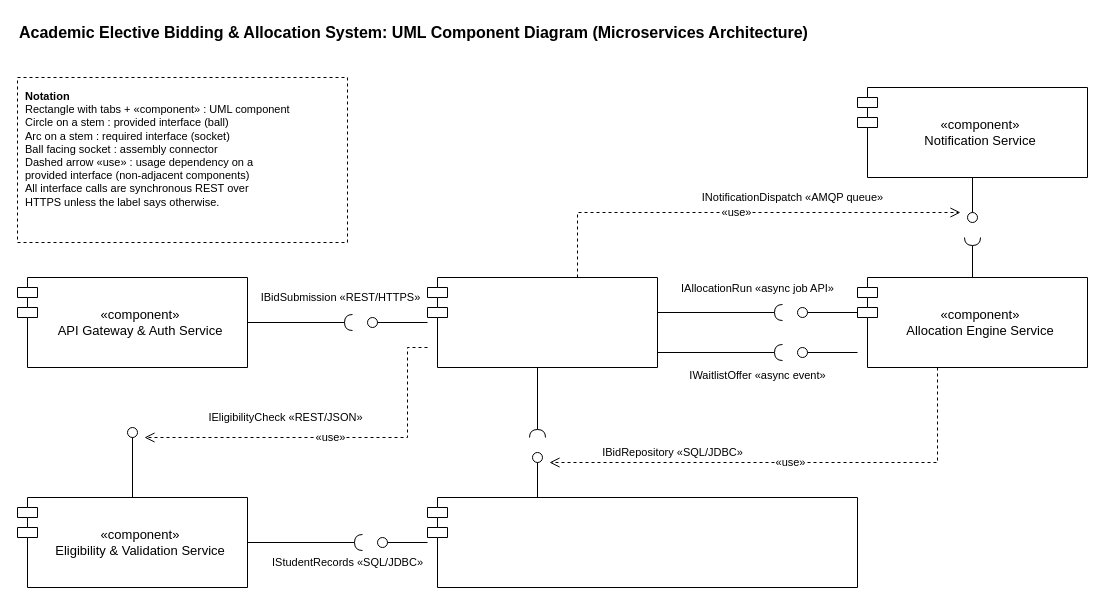
Some shapes in this 1105 by 605 pixel diagram are drawn without their labels. The centre of each missing label's shape, as x and y in pixels:
"«component» Bid Management Service" belongs at (542,322).
"«component» Bidding Data Store" belongs at (642,542).
